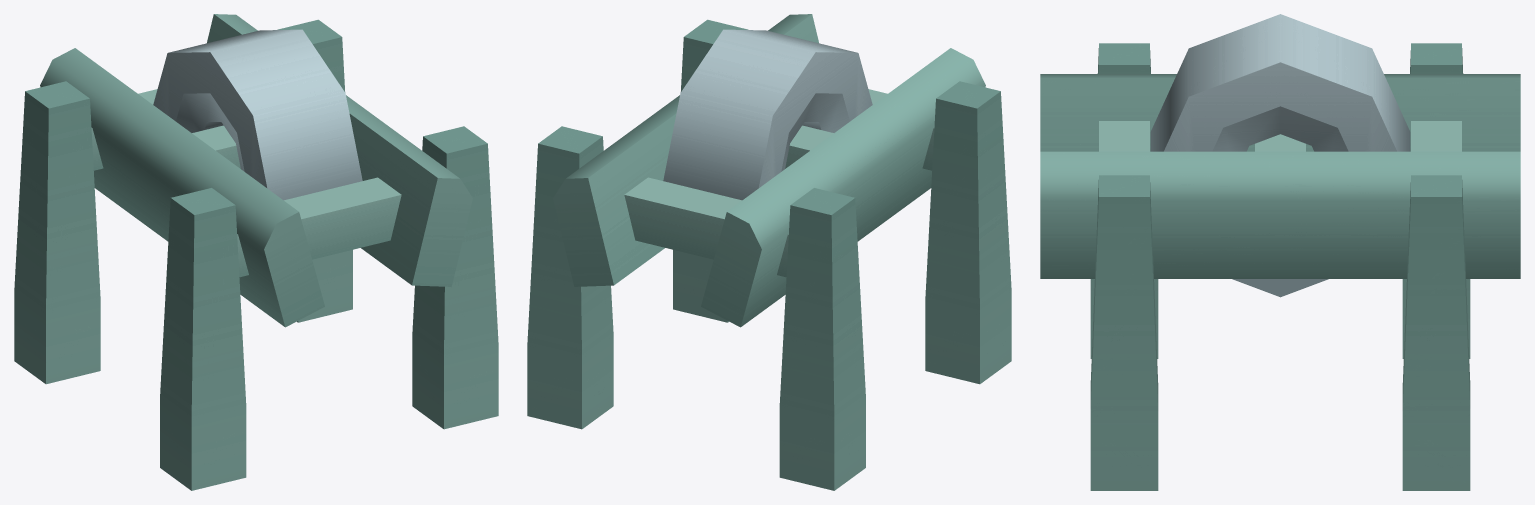
File: Grindstone.gltf
3 renders of one model, left to right at view 1: azimuth 30°, elevation 25°; view 2: azimuth 150°, elevation 25°; view 3: azimuth 270°, elevation 25°, orthographic. The views are drawn at different scales.
Visible parts, largest first — view 1: workbench-grind, wheel; view 2: workbench-grind, wheel; view 3: workbench-grind, wheel.
Part boxes in pixels (box(x1,y1,x2,y2)): workbench-grind: box(14, 14, 498, 490); wheel: box(153, 29, 362, 200); workbench-grind: box(527, 14, 1011, 490); wheel: box(663, 29, 872, 200); workbench-grind: box(1040, 43, 1520, 490); wheel: box(1150, 14, 1410, 297).
Bounding box in the file's own units: 0.2604 × 0.2817 × 0.329.
1 material, 1 textured.
